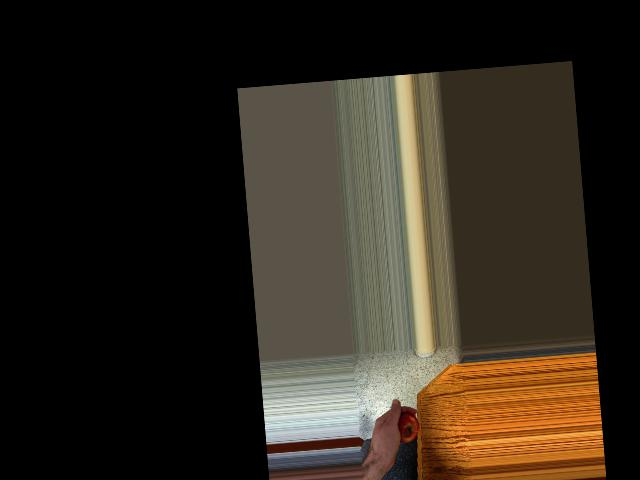apple: (385, 410, 422, 448)
